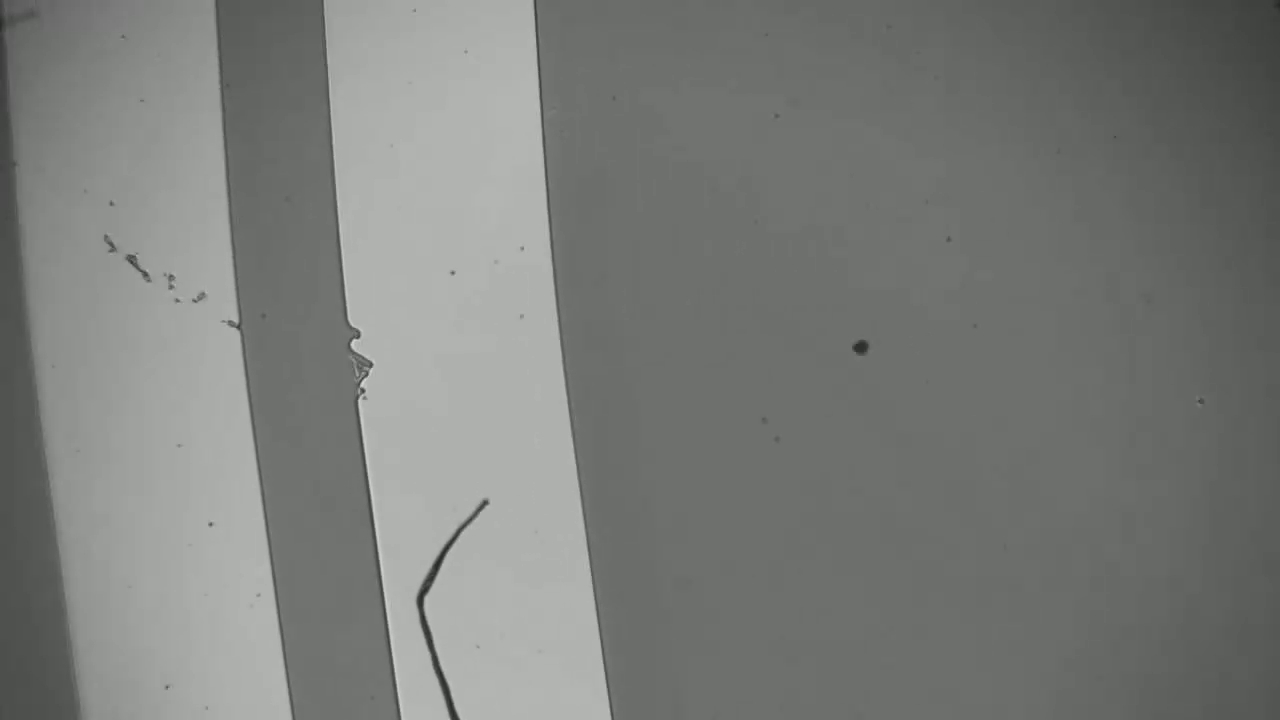edge_bite: (333, 341, 383, 393), (335, 313, 368, 347)
